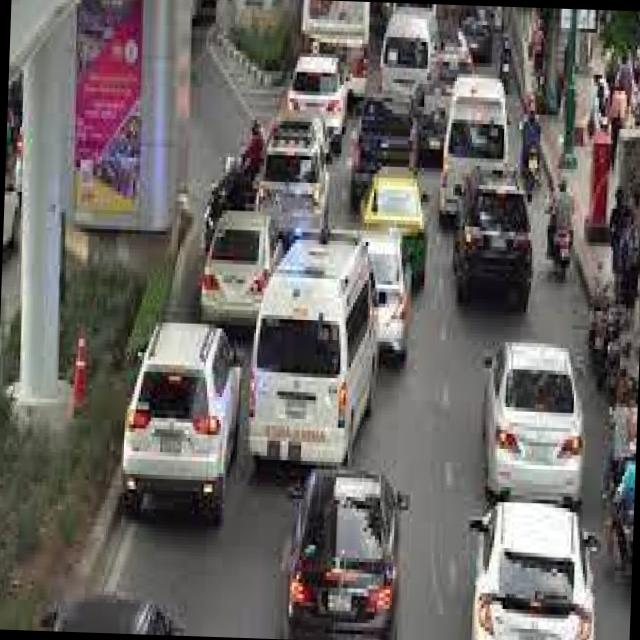ambulance: (240, 222, 388, 464)
